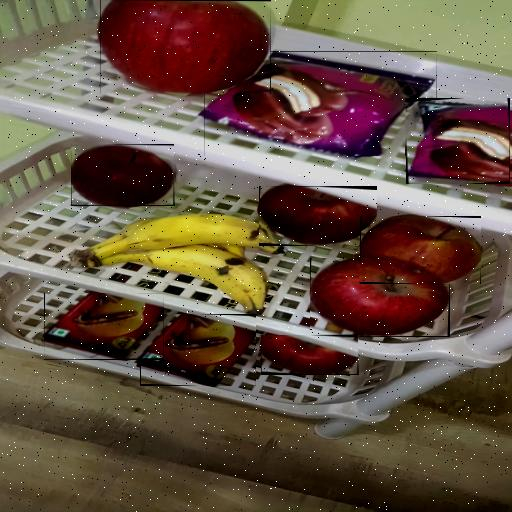Apple: (100, 0, 271, 94), (310, 258, 450, 337), (360, 216, 481, 284), (259, 186, 377, 246), (72, 144, 176, 206), (262, 335, 360, 375)
Choco Fills: (140, 314, 256, 386), (44, 293, 164, 360)
Choco Pie: (204, 51, 437, 156), (406, 98, 510, 184)
